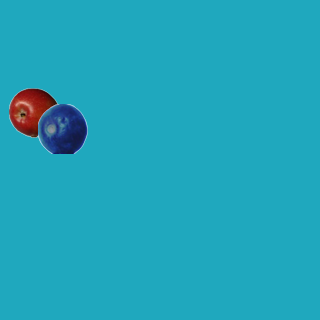Apple Braeburn: (8, 87, 58, 137)
Huckleberry: (37, 103, 87, 153)
